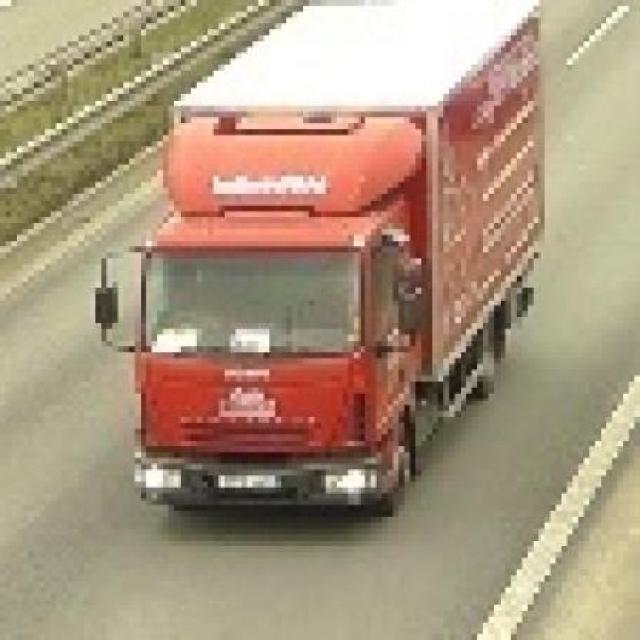truck: (90, 1, 535, 512)
